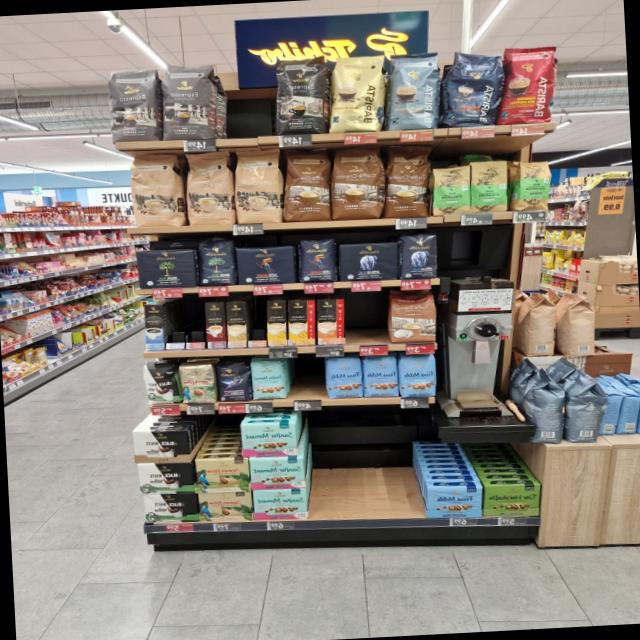AB Bohne: (399, 232, 441, 280)
AB Gemahlen: (336, 241, 399, 283)
Athiopien Bohne: (511, 160, 553, 212)
Athiopien Gemahlen: (432, 164, 472, 217), (468, 159, 508, 212)
BM Bohne: (196, 236, 237, 288)
BM Gemahlen: (136, 248, 198, 290)
BW Bohne: (143, 360, 177, 406)
Barista CB: (327, 52, 388, 134)
Barista CC: (382, 50, 444, 131)
Barista Espresso: (440, 51, 504, 127)
Barista Kolumbien: (494, 44, 562, 125)
C Fino Bohne: (217, 358, 252, 402)
CC Mild: (128, 152, 181, 228), (232, 150, 285, 224), (183, 152, 234, 226)
CC Vollmundig: (387, 290, 438, 344)
CC Vollmundig 36 Pads: (380, 142, 434, 218), (329, 146, 384, 220), (282, 148, 334, 222)
Colombia BB Bohne: (178, 360, 218, 406)
Colombia BB Gemahlen: (193, 457, 250, 494), (198, 491, 254, 523)
Empty Shelf: (304, 418, 416, 522), (212, 53, 273, 139), (346, 292, 388, 344), (286, 359, 322, 399), (164, 303, 186, 343), (185, 302, 206, 342), (247, 301, 266, 341)
Espresso Aromatisch: (158, 60, 222, 142), (105, 66, 160, 143)
Espresso Kraftig: (270, 51, 335, 135)
FM Bohne: (398, 355, 439, 398), (323, 357, 363, 399), (362, 354, 400, 398)
FM Gemahlen: (424, 484, 485, 520)
Herzhatfe Mundig: (481, 482, 543, 518)
LG Bohne: (298, 238, 336, 282)
LG Gemahlen: (235, 243, 295, 286)
SM Bohne: (251, 358, 287, 402)
SM Gemahlen: (240, 418, 300, 459), (249, 456, 305, 491), (252, 488, 308, 520)
Simo CCMild: (287, 300, 318, 346)
Simo CCMild bigpack: (265, 299, 289, 347)
Simo CCVollmundig: (316, 298, 346, 346)
Simo Decaff: (226, 302, 247, 348)
Simo Es Caramel: (205, 302, 227, 349)
Simo Es Vanilla: (144, 304, 166, 351)
